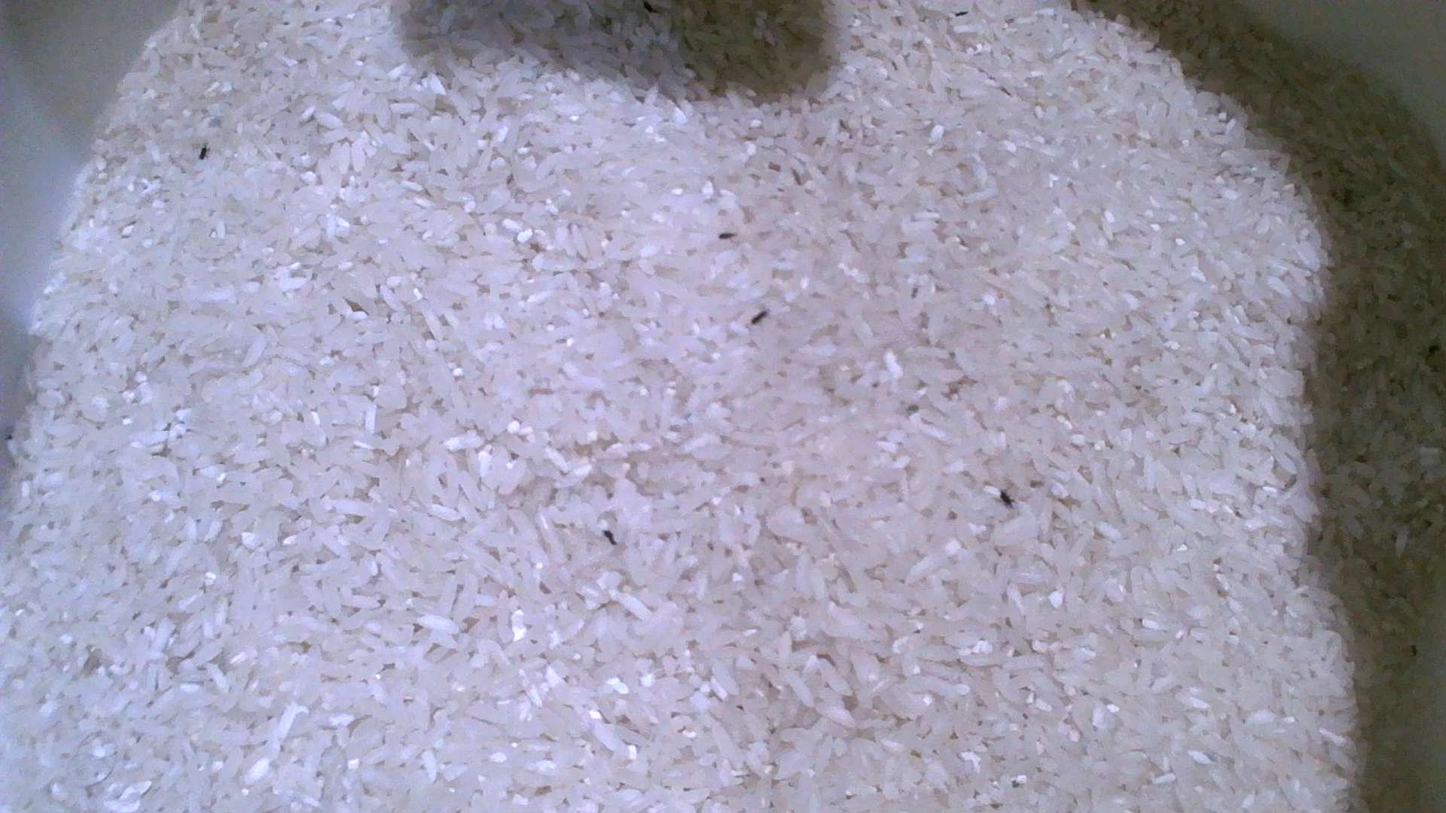Sitophilus-Oryzae: (750, 309, 769, 324), (1000, 490, 1014, 507), (718, 231, 737, 240), (198, 145, 209, 160)
